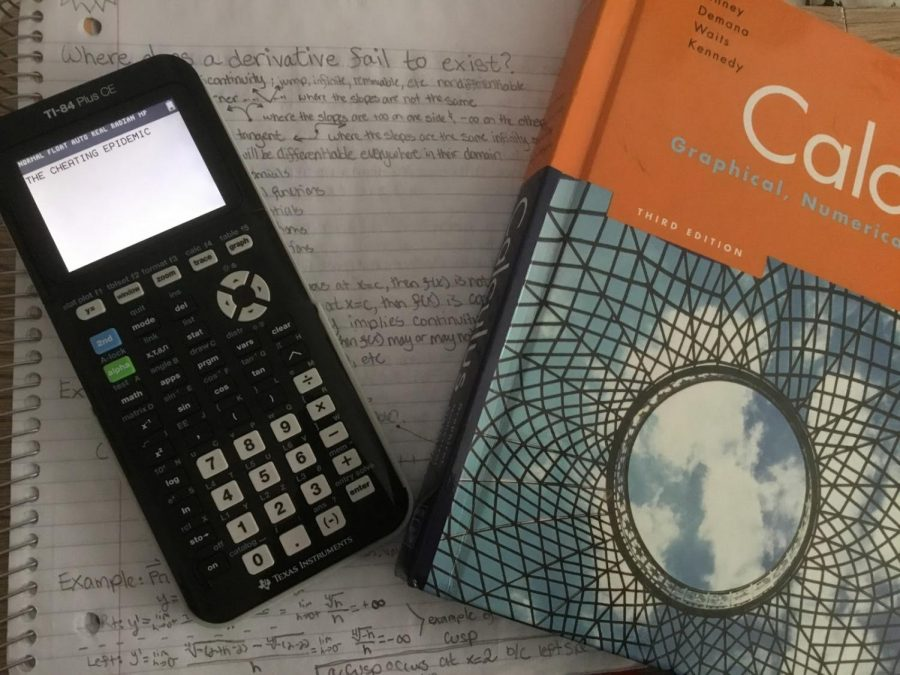Calculator: (10, 56, 413, 626)
